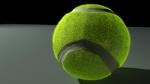tennis ball: (46, 4, 133, 82)
